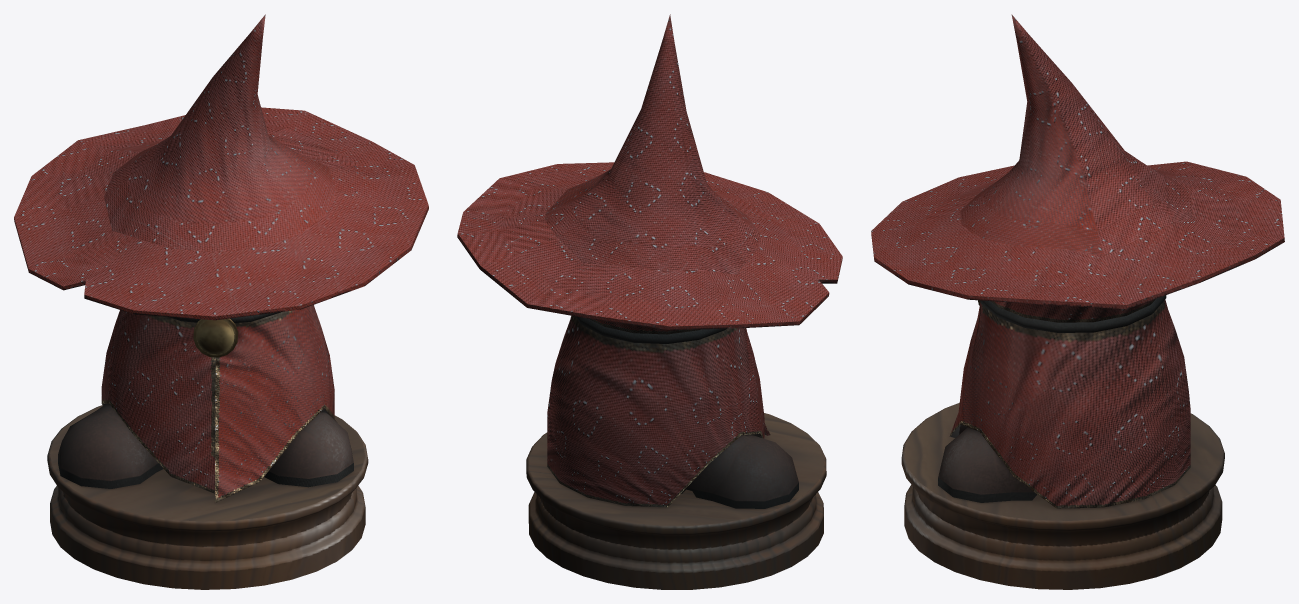
Rendered from BigShoeSorcerer.fbx.
3 views of the same model, side by side, from view 1: azimuth 30°, elevation 25°; view 2: azimuth 150°, elevation 25°; view 3: azimuth 270°, elevation 25° (orthographic). The views are drawn at different scales.
Visible parts, largest first — view 1: Cylinder; view 2: Cylinder; view 3: Cylinder.
Part boxes in pixels (x1,y1,x2,y2): Cylinder: (14,14,428,589); Cylinder: (457,14,842,589); Cylinder: (871,14,1284,589).
Bounding box in the file's own units: 0.2108 × 0.2965 × 0.2119.
